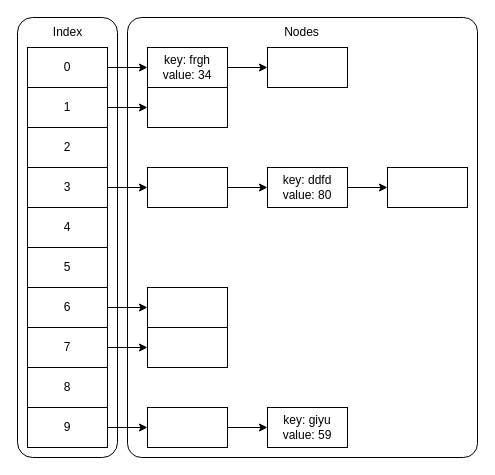
Some shapes in this 495 by 475 pixel diagram are drawn without their labels. Here are the shapes that lost their labels. From the top down, the centre of each, then its label:
[307,67]: key: jhlk value: 12
[187,107]: key: gtyh value: 2
[187,187]: key: egre value: 45
[427,187]: key: otro value: 23
[187,307]: key: abcd value: 10
[187,347]: key: bnbv value: 11
[187,427]: key: mjuu value: 3
